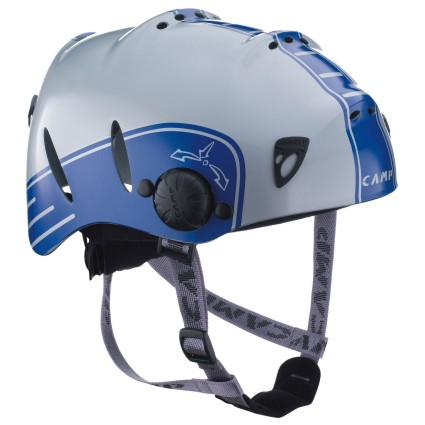helmet: (21, 15, 405, 263)
